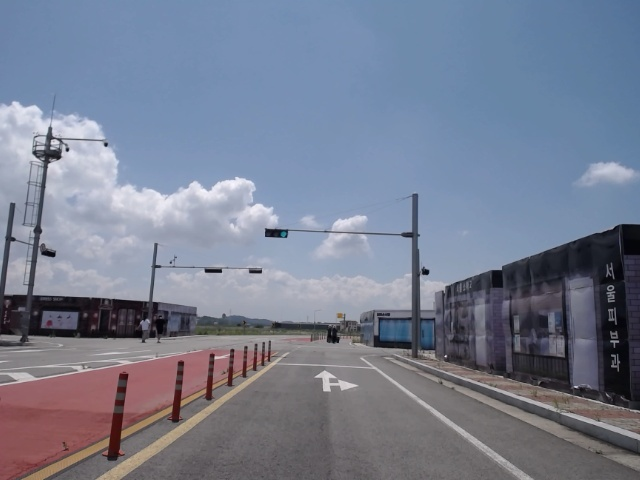green_3: (266, 229, 287, 237)
